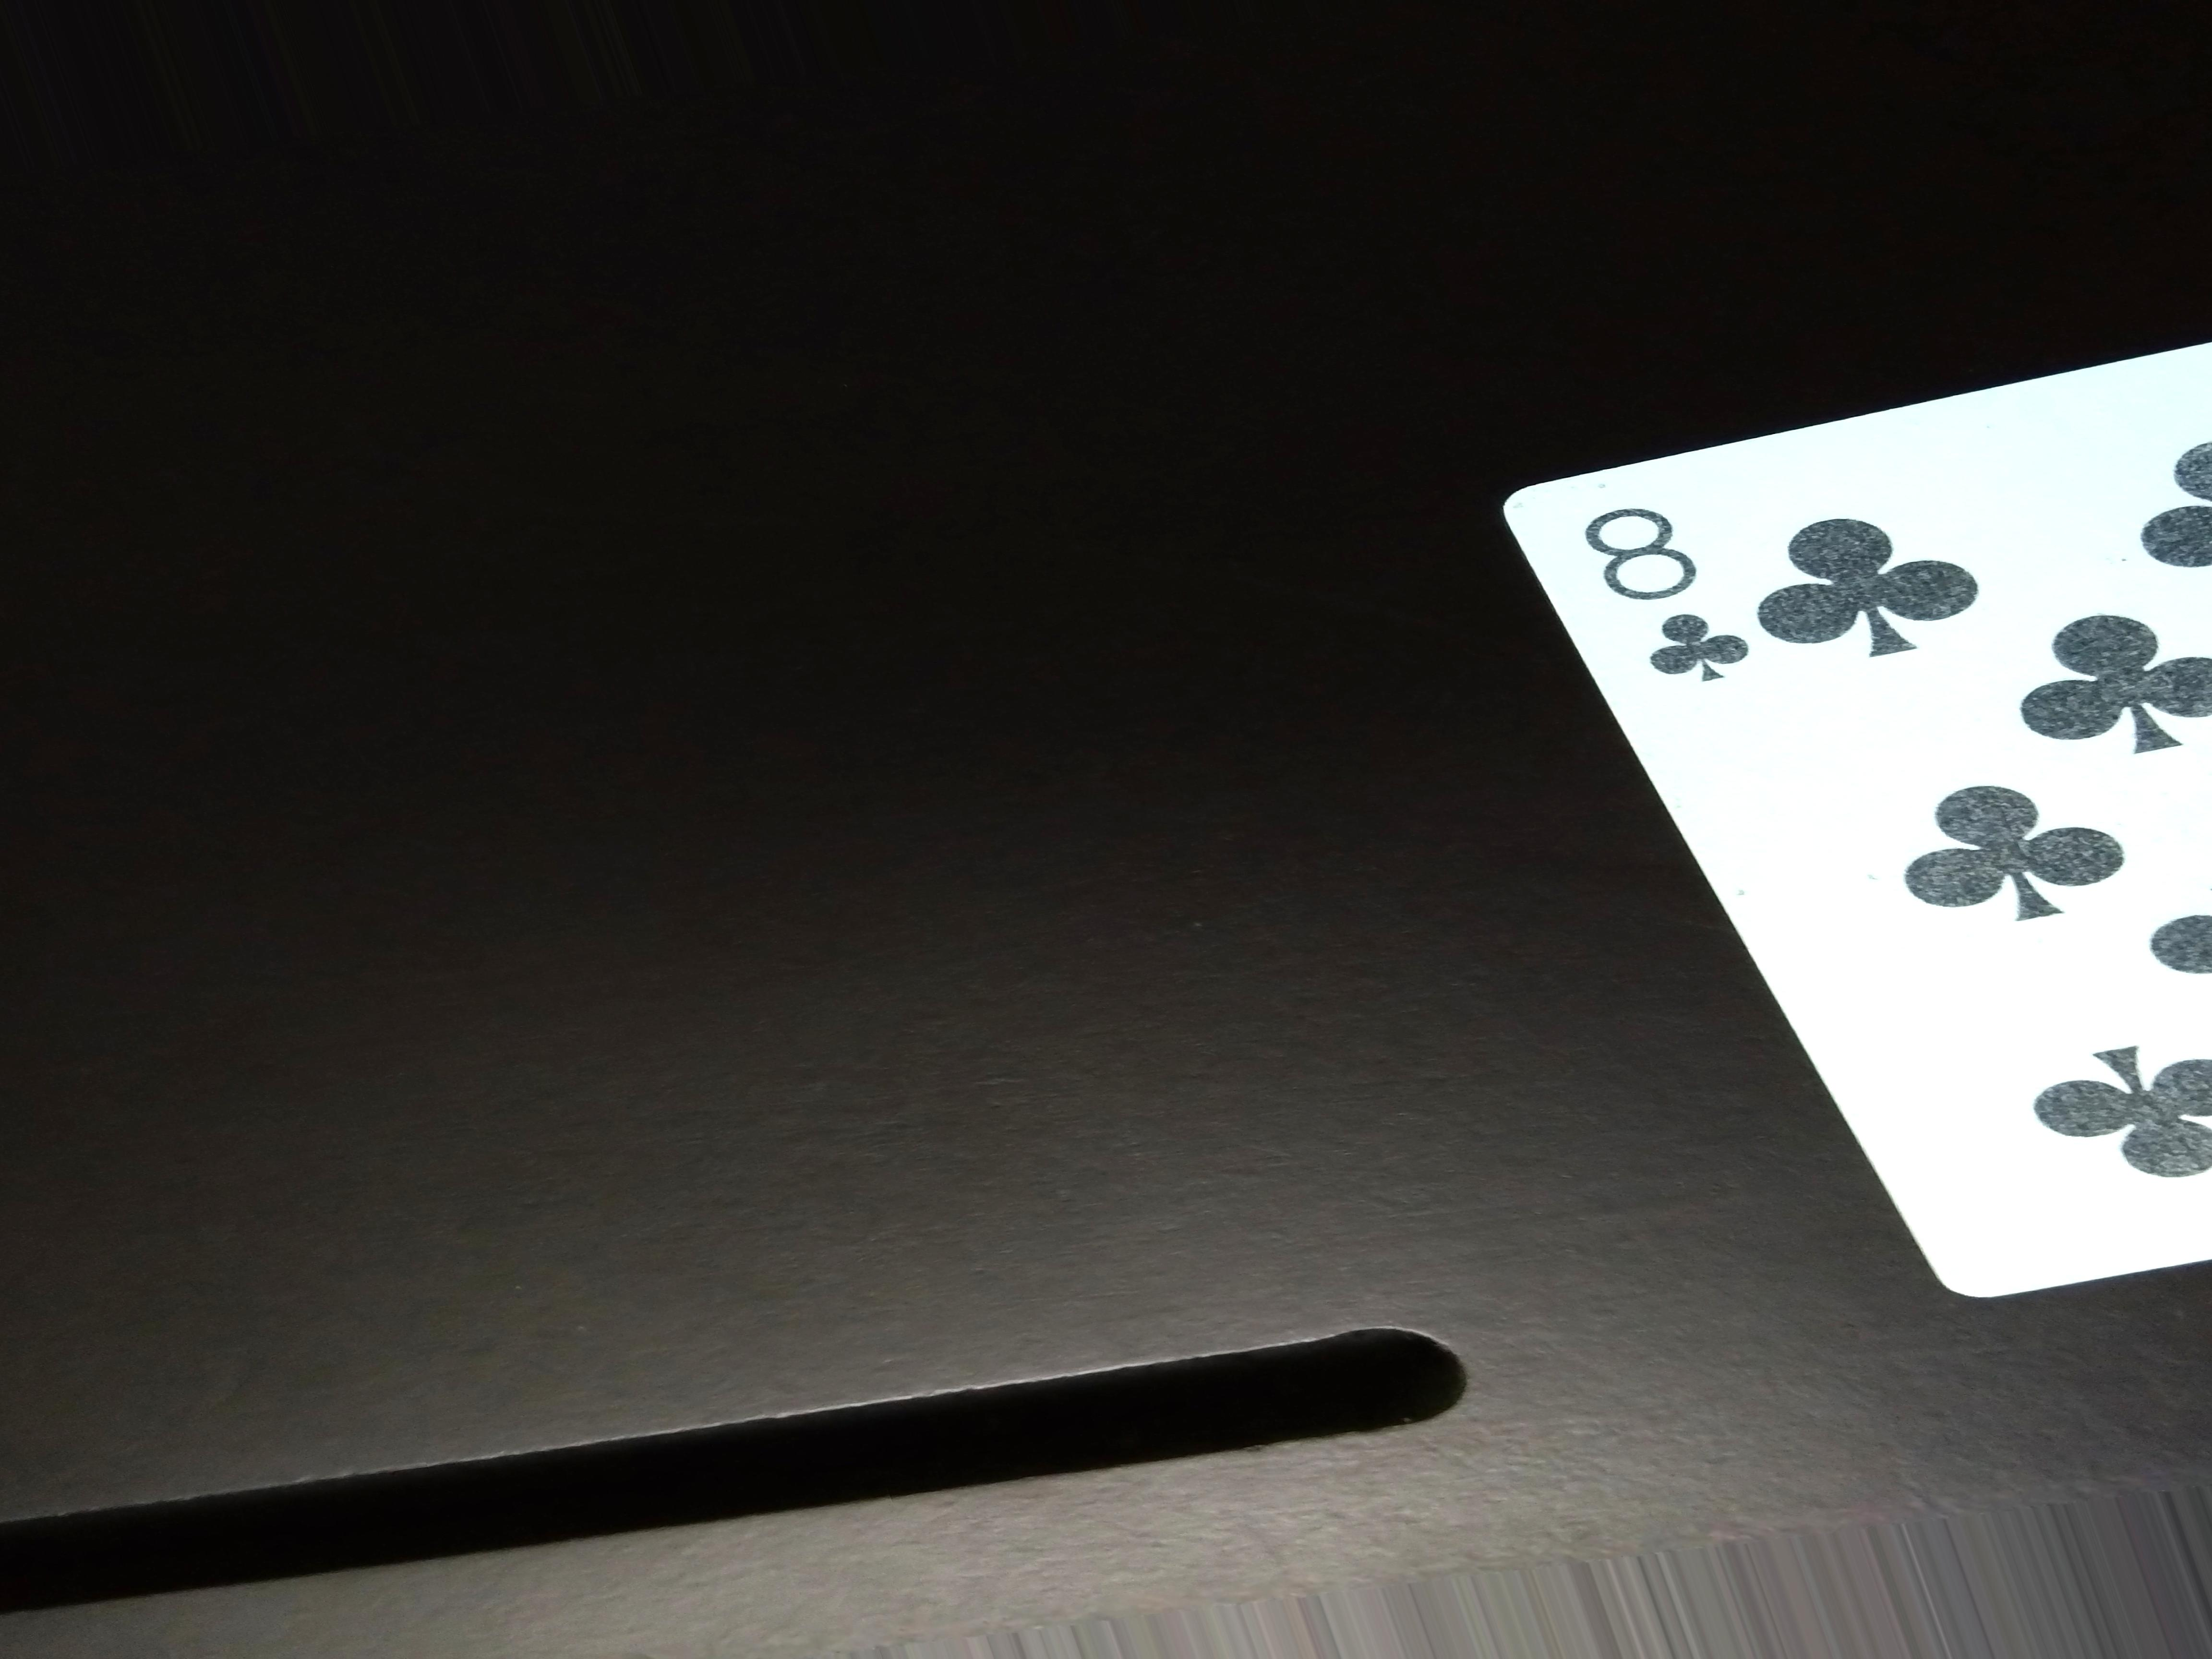8C: (1573, 486, 1768, 718)
